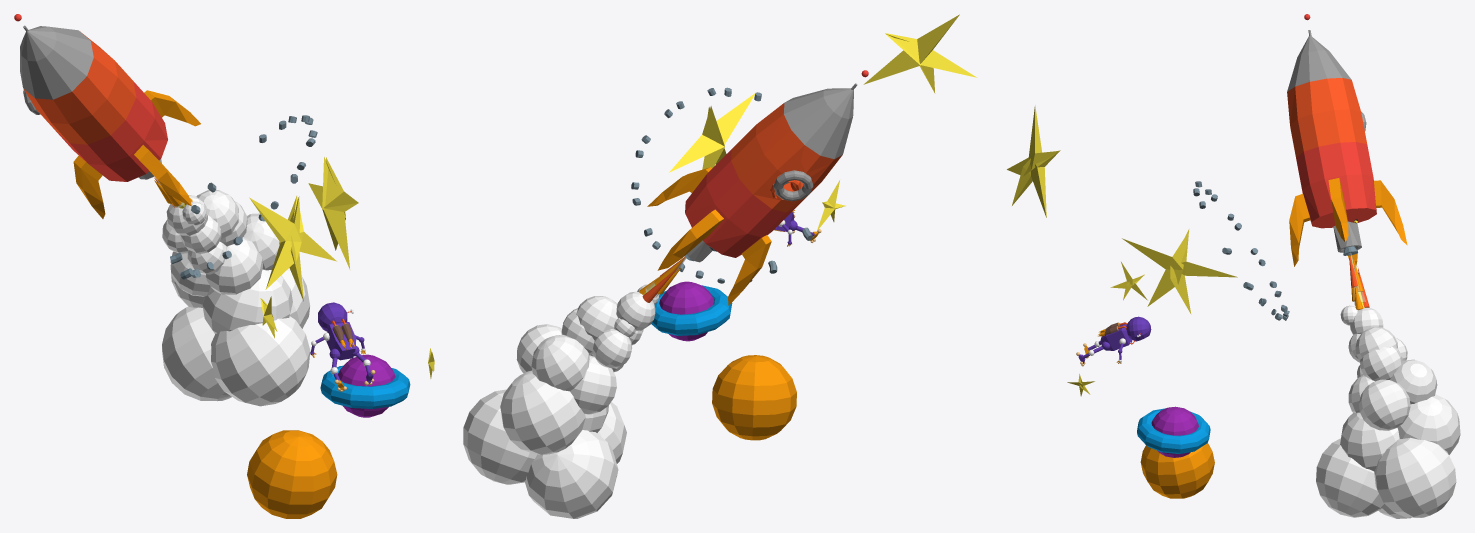
The model's file is model-triangulated.obj.
3 views of the same model, side by side, from view 1: azimuth 30°, elevation 25°; view 2: azimuth 150°, elevation 25°; view 3: azimuth 270°, elevation 25° (orthographic). The views are drawn at different scales.
Parts seen in each view (by area): view 1: group2004988856, group294200999, group1370923977, group1287986454, group2028425306, group2013060534, group1302262274, group1955879255; view 2: group2004988856, group294200999, group1370923977, group2028425306, group2013060534, group1302262274, group1955879255; view 3: group2004988856, group294200999, group2013060534, group2028425306, group1370923977, group1287986454, group1302262274, group1955879255.
Part boxes in pixels (left/top/right/bottom): group2004988856: left=14, top=14, right=310, bottom=406; group294200999: left=247, top=430, right=337, bottom=518; group1370923977: left=249, top=195, right=336, bottom=301; group1287986454: left=310, top=302, right=375, bottom=391; group2028425306: left=320, top=365, right=410, bottom=408; group2013060534: left=308, top=157, right=358, bottom=269; group1302262274: left=338, top=354, right=395, bottom=417; group1955879255: left=170, top=115, right=317, bottom=279; group2004988856: left=463, top=70, right=868, bottom=518; group294200999: left=712, top=355, right=796, bottom=440; group1370923977: left=863, top=14, right=977, bottom=93; group2028425306: left=651, top=285, right=732, bottom=335; group2013060534: left=669, top=93, right=755, bottom=172; group1302262274: left=659, top=281, right=714, bottom=341; group1955879255: left=631, top=87, right=812, bottom=283; group2004988856: left=1287, top=14, right=1460, bottom=518; group294200999: left=1140, top=443, right=1214, bottom=498; group2013060534: left=1122, top=229, right=1237, bottom=314; group2028425306: left=1137, top=408, right=1210, bottom=453; group1370923977: left=1007, top=105, right=1060, bottom=217; group1287986454: left=1076, top=316, right=1151, bottom=366; group1302262274: left=1151, top=406, right=1198, bottom=457; group1955879255: left=1193, top=181, right=1289, bottom=320.
Bounding box in the file's own units: 2.69 × 3.56 × 3.63.
